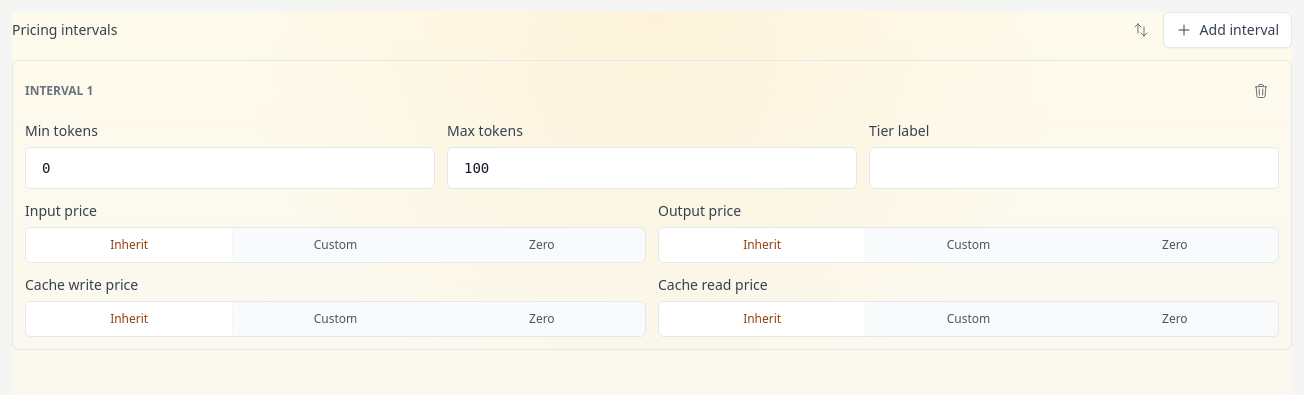
Test: PricingIntervalsEditor › rejects invalid interval bounds for max-tokens-0
Replace the text in the number field labelled "Max tokens" with "0" at coordinates (652, 168), box [447,147,857,189]
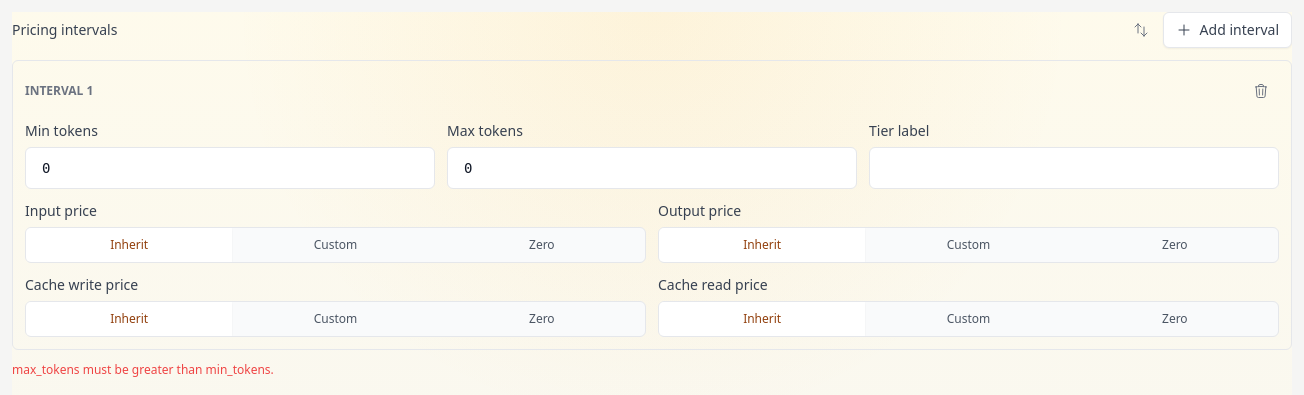
Expected: the message "max_tokens must be greater than min_tokens." is shown, [12,361,274,378]
